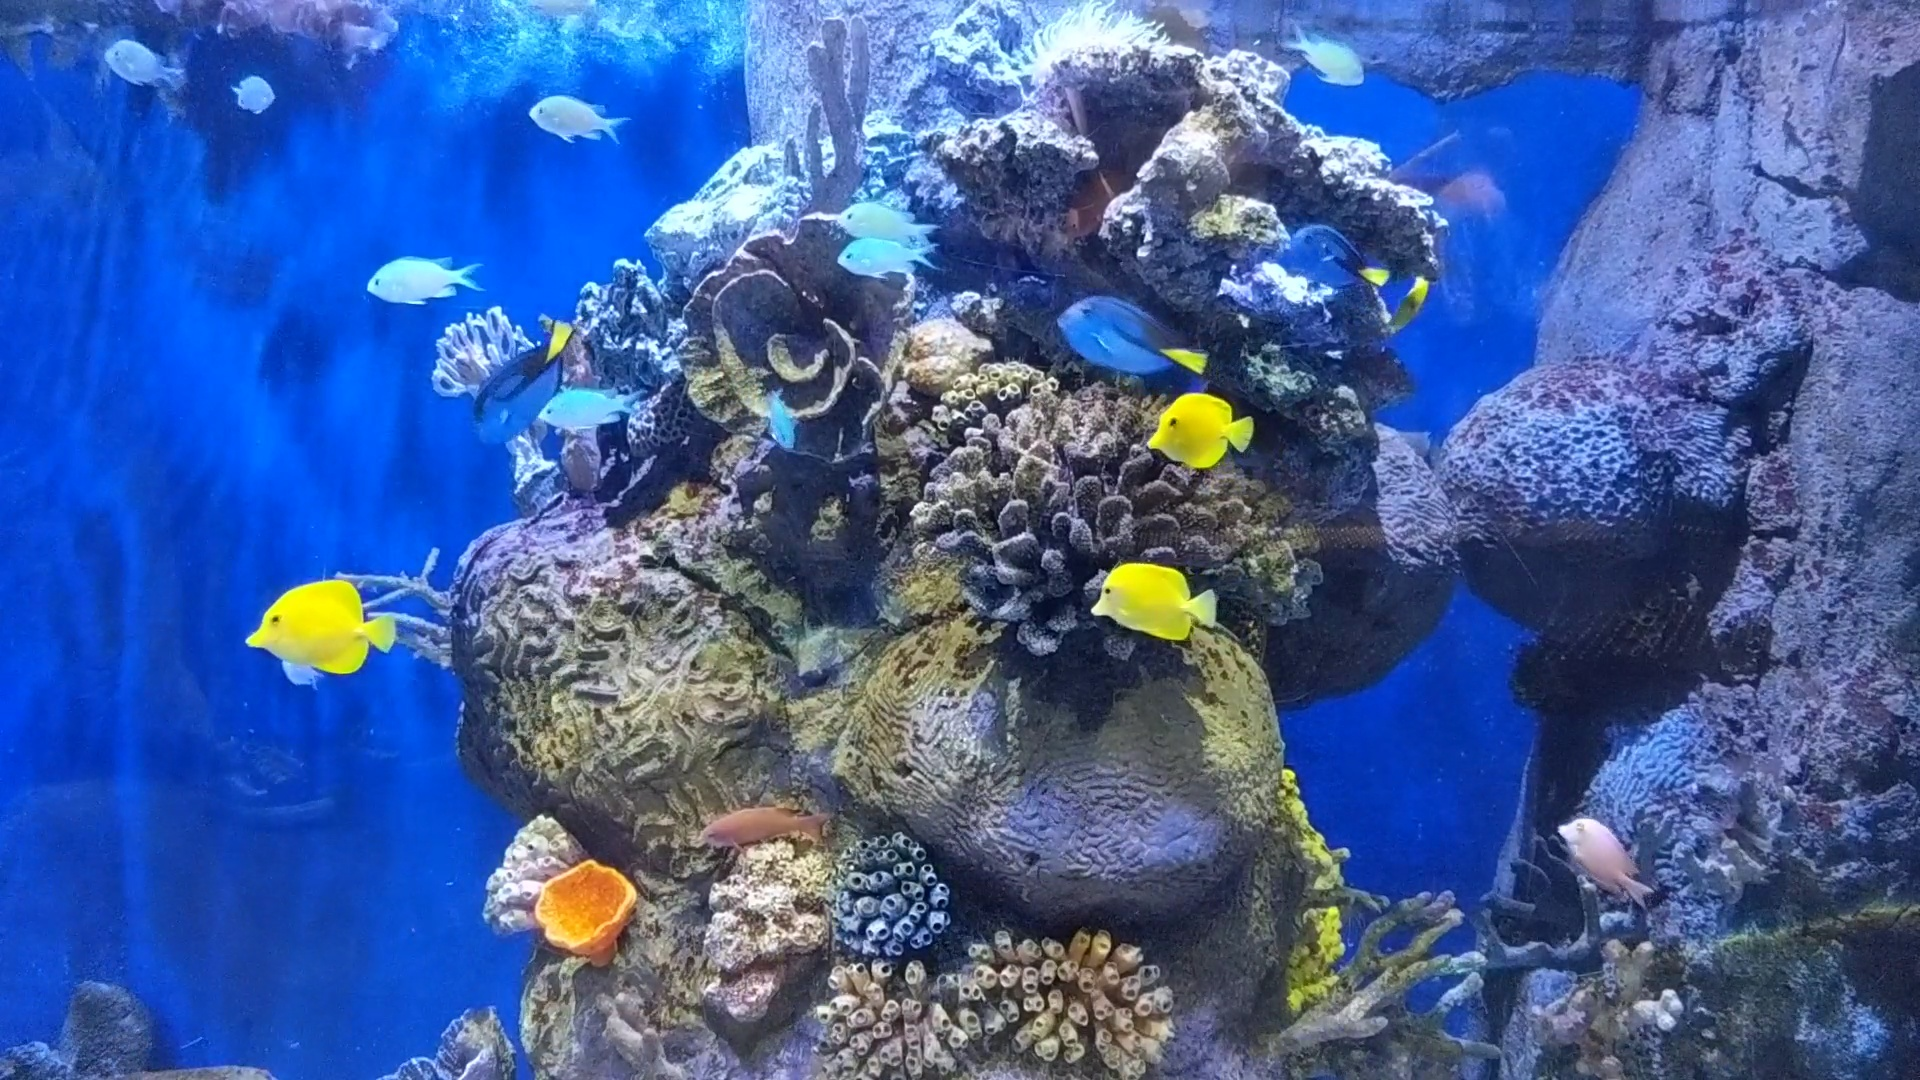blue tang surgeonfish: (1047, 282, 1211, 382), (462, 328, 578, 440), (1276, 215, 1394, 295)
damselfish: (345, 237, 488, 316), (514, 80, 634, 156), (1276, 21, 1370, 88), (94, 26, 185, 94), (833, 191, 931, 247), (822, 237, 939, 282), (538, 384, 636, 430), (225, 57, 286, 121), (757, 386, 804, 460)
pink fish: (1553, 794, 1662, 923)
saddle butterfly fish: (225, 570, 402, 692), (1077, 549, 1221, 654), (1129, 390, 1265, 472)
